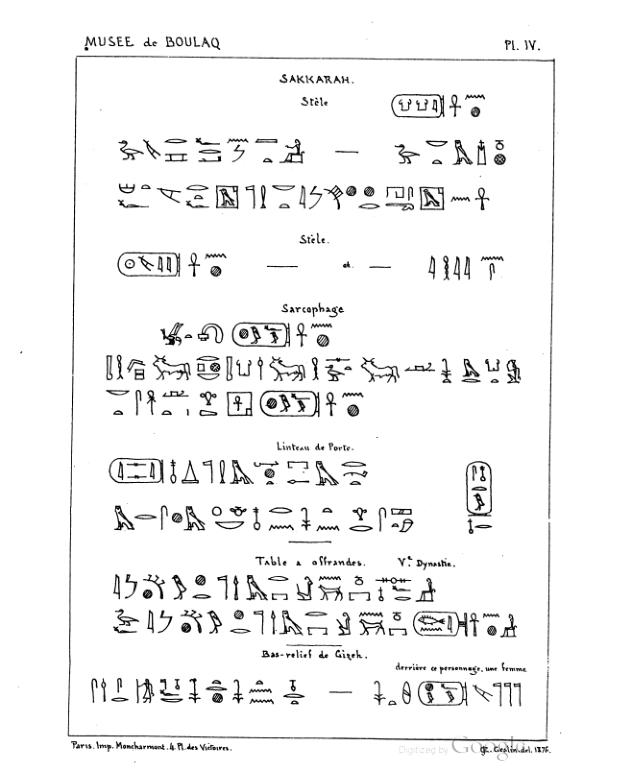circle: (256, 387, 325, 423), (103, 454, 168, 491), (115, 249, 184, 282), (461, 459, 496, 520), (415, 675, 473, 711), (229, 320, 295, 350), (410, 608, 470, 640), (389, 90, 447, 122)
